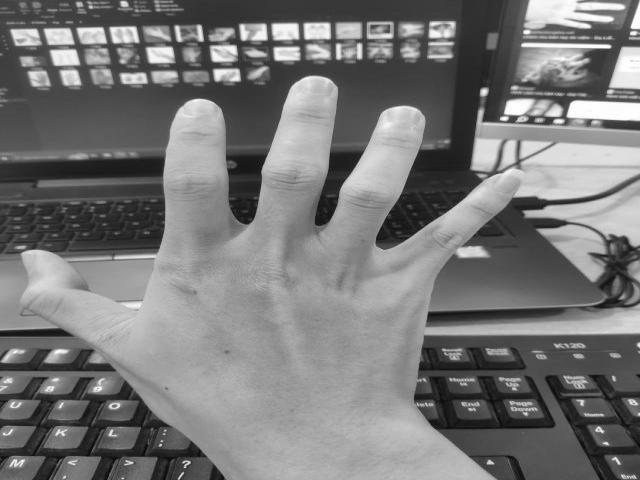not-gloved: (19, 73, 520, 480)
